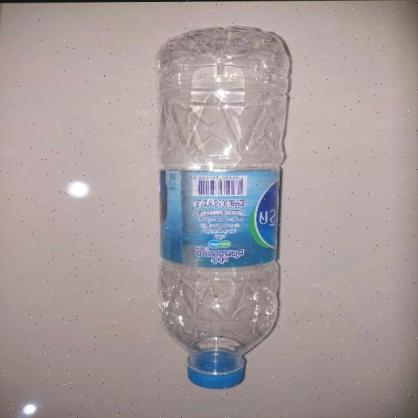bottle: (156, 22, 296, 391)
cap: (183, 359, 251, 387)
label: (161, 163, 283, 269)
